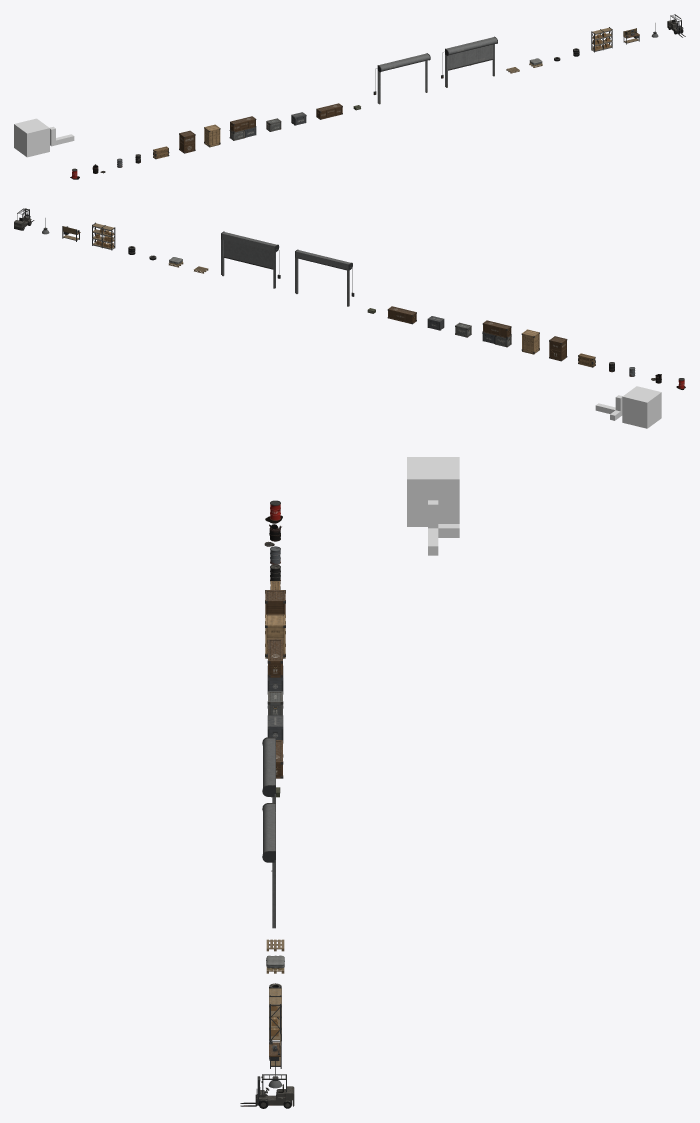
File: W2_Props_kit.fbx
3 renders of one model, top to bottom at view 1: azimuth 30°, elevation 25°; view 2: azimuth 150°, elevation 25°; view 3: azimuth 270°, elevation 25°, orthographic. The views are drawn at different scales.
Visible parts, largest first — view 1: K_ScaleCube, W2_RollDoor_HalfOpen__W2_RollDoor_Curtain_Half, W2_RollDoor_Open__W2_RollDoor_Frame, W2_RollDoor_HalfOpen__W2_RollDoor_Frame, W2_ShelfRack__W2_ShelfRack, W2_Cover_Tall__W2_TallCrate, W2_Cover_TallPly__W2_TallCrate_Ply, W2_LongCrate, W2_Cover_Wall__W2_LongCrate; view 2: K_ScaleCube, W2_RollDoor_HalfOpen__W2_RollDoor_Curtain_Half, W2_RollDoor_Open__W2_RollDoor_Frame, W2_RollDoor_HalfOpen__W2_RollDoor_Frame, W2_ShelfRack__W2_ShelfRack, W2_Cover_Tall__W2_TallCrate, W2_Cover_TallPly__W2_TallCrate_Ply, W2_LongCrate, W2_Cover_Wall__W2_LongCrate, K_Marker; view 3: K_ScaleCube, W2_RollDoor_HalfOpen__W2_RollDoor_Frame.
Boxes of the visible parts, bbox=[...] form: K_ScaleCube: bbox=[14, 118, 49, 157]; W2_RollDoor_HalfOpen__W2_RollDoor_Curtain_Half: bbox=[448, 44, 493, 70]; W2_RollDoor_Open__W2_RollDoor_Frame: bbox=[377, 53, 430, 104]; W2_RollDoor_HalfOpen__W2_RollDoor_Frame: bbox=[445, 36, 497, 87]; W2_ShelfRack__W2_ShelfRack: bbox=[591, 27, 612, 52]; W2_Cover_Tall__W2_TallCrate: bbox=[179, 130, 195, 153]; W2_Cover_TallPly__W2_TallCrate_Ply: bbox=[204, 124, 220, 147]; W2_LongCrate: bbox=[316, 103, 342, 119]; W2_Cover_Wall__W2_LongCrate: bbox=[230, 116, 256, 132]; K_ScaleCube: bbox=[622, 386, 661, 428]; W2_RollDoor_HalfOpen__W2_RollDoor_Curtain_Half: bbox=[223, 240, 273, 269]; W2_RollDoor_Open__W2_RollDoor_Frame: bbox=[295, 249, 352, 306]; W2_RollDoor_HalfOpen__W2_RollDoor_Frame: bbox=[221, 231, 279, 288]; W2_ShelfRack__W2_ShelfRack: bbox=[92, 222, 115, 250]; W2_Cover_Tall__W2_TallCrate: bbox=[549, 336, 567, 361]; W2_Cover_TallPly__W2_TallCrate_Ply: bbox=[521, 329, 539, 354]; W2_LongCrate: bbox=[387, 306, 416, 324]; W2_Cover_Wall__W2_LongCrate: bbox=[482, 320, 511, 338]; K_Marker: bbox=[595, 395, 622, 420]; K_ScaleCube: bbox=[407, 457, 459, 526]; W2_RollDoor_HalfOpen__W2_RollDoor_Frame: bbox=[262, 803, 275, 928].
Bounding box in the file's own units: 27209 × 1633 × 4165.
Materials: 12 (11 with a texture image).
